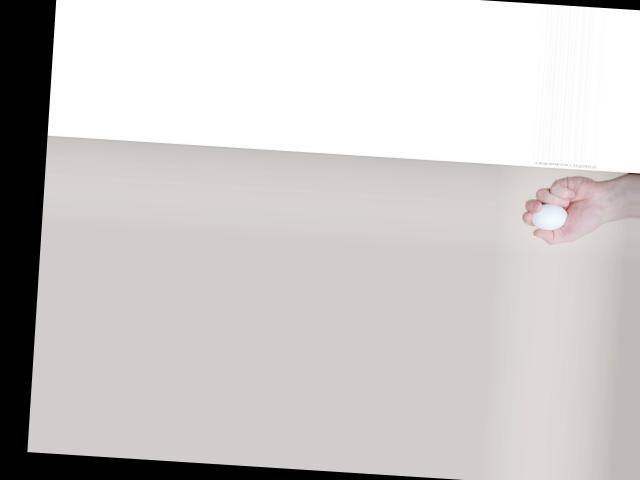egg: (532, 203, 569, 231)
